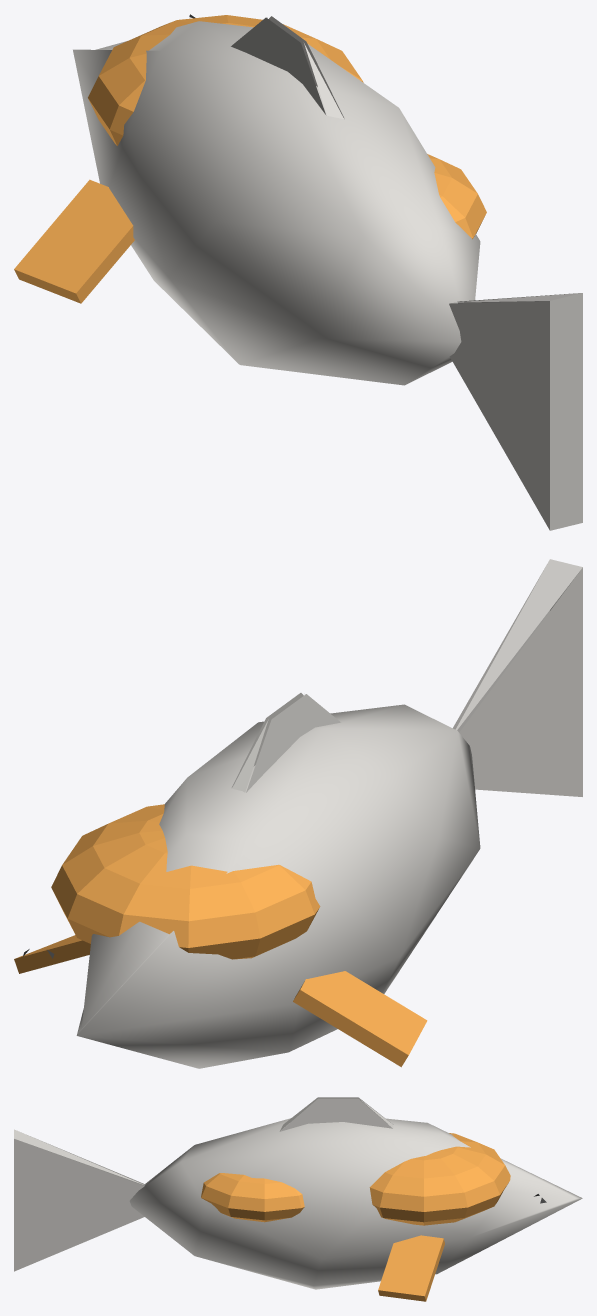
The model's file is koi.glb.
3 views of the same model, one above another, from view 1: azimuth 30°, elevation 25°; view 2: azimuth 150°, elevation 25°; view 3: azimuth 270°, elevation 25° (orthographic). The views are drawn at different scales.
Visible parts, largest first — view 1: koi; view 2: koi; view 3: koi.
Part boxes in pixels (x1,y1,x2,y2): koi: (14,14,582,530); koi: (14,559,582,1068); koi: (14,1097,582,1301).
Bounding box in the file's own units: 0.4311 × 0.3366 × 0.9301.
